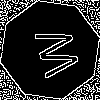W: (25, 25, 81, 82)
